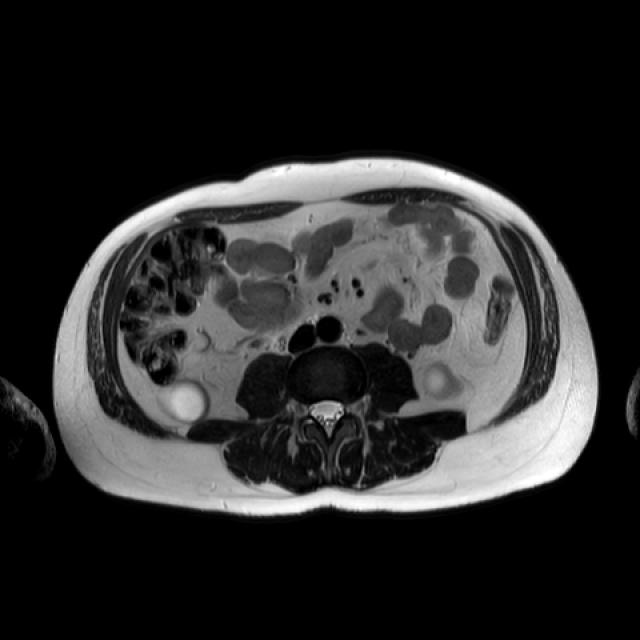sag: (162, 380, 208, 425)
sol: (424, 363, 462, 397)
